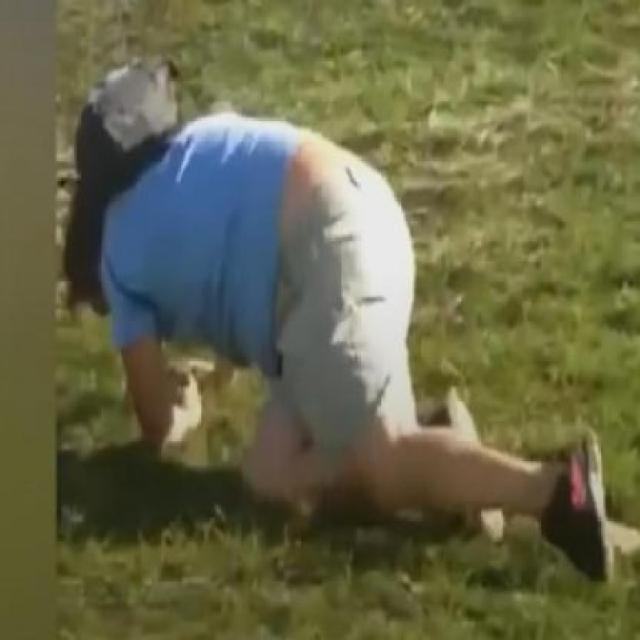fall: (66, 72, 614, 590)
